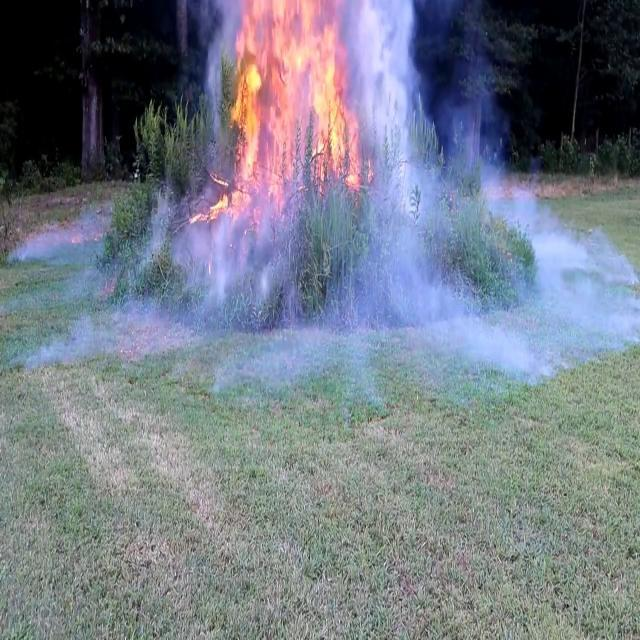Fire: (217, 0, 359, 210)
Smoke: (173, 0, 637, 398)
